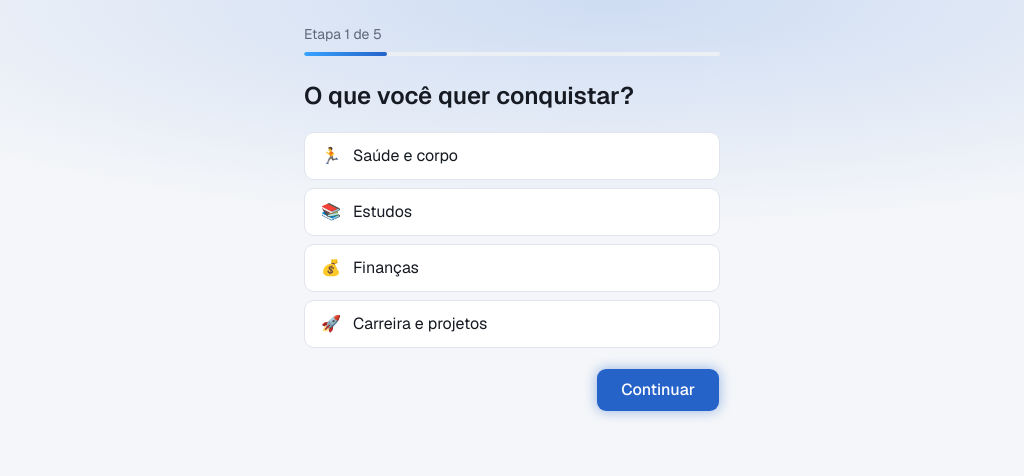
Test: OnboardingQuiz › does not advance a single-choice step without an answer
Click the button "Continuar".
click(658, 390)  # box [596, 368, 720, 412]
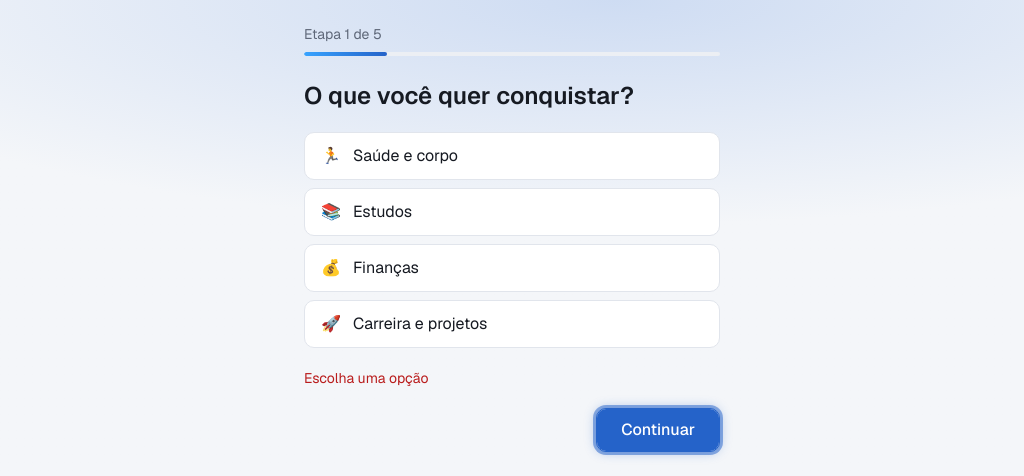
Check: the text "Etapa 1 de 5" is shown, box [304, 25, 382, 43]
Check: the text "Escolha uma opção" is shown, box [304, 369, 428, 387]
